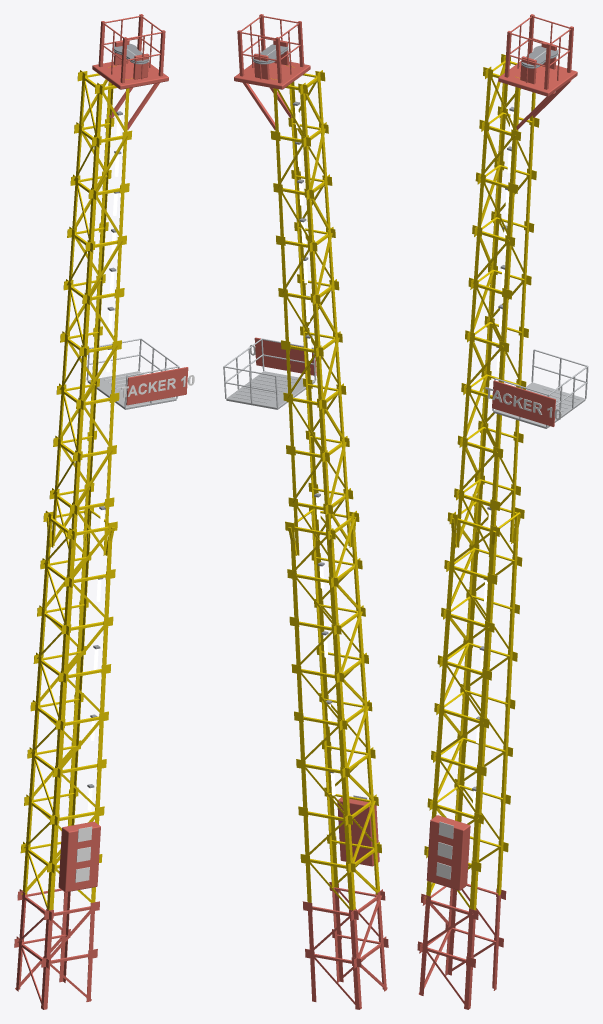
File: sk575_mastil.glb
3 views of the same model, side by side, from view 1: azimuth 30°, elevation 25°; view 2: azimuth 150°, elevation 25°; view 3: azimuth 330°, elevation 25° (orthographic). The views are drawn at different scales.
Parts seen in each view (by area): view 1: sk575_mastil_amarillo, sk575_mastil_rojo, sk575_enganche_rojo, sk575_mastil_luz, sk575_enganche_grating, sk575_enganche_acero, sk575_mastil_blanco, sk575_mastil_acero_oscuro, sk575_enganche_blanco; view 2: sk575_mastil_amarillo, sk575_mastil_rojo, sk575_enganche_grating, sk575_enganche_acero, sk575_enganche_rojo, sk575_mastil_luz, sk575_mastil_acero_oscuro; view 3: sk575_mastil_amarillo, sk575_mastil_rojo, sk575_enganche_rojo, sk575_enganche_acero, sk575_enganche_grating, sk575_mastil_luz, sk575_mastil_blanco, sk575_mastil_acero_oscuro, sk575_enganche_blanco.
Boxes of the visible parts, x1=… form: sk575_mastil_amarillo: x1=20, y1=65, x2=132, y2=910; sk575_mastil_rojo: x1=14, y1=14, x2=168, y2=1009; sk575_enganche_rojo: x1=126, y1=367, x2=188, y2=405; sk575_mastil_luz: x1=87, y1=115, x2=121, y2=810; sk575_enganche_grating: x1=87, y1=371, x2=176, y2=409; sk575_enganche_acero: x1=86, y1=338, x2=179, y2=408; sk575_mastil_blanco: x1=75, y1=826, x2=92, y2=882; sk575_mastil_acero_oscuro: x1=87, y1=43, x2=148, y2=788; sk575_enganche_blanco: x1=121, y1=375, x2=194, y2=397; sk575_mastil_amarillo: x1=270, y1=65, x2=381, y2=910; sk575_mastil_rojo: x1=234, y1=14, x2=388, y2=1009; sk575_enganche_grating: x1=226, y1=371, x2=315, y2=409; sk575_enganche_acero: x1=223, y1=338, x2=316, y2=408; sk575_enganche_rojo: x1=254, y1=337, x2=316, y2=375; sk575_mastil_luz: x1=294, y1=105, x2=335, y2=795; sk575_mastil_acero_oscuro: x1=252, y1=44, x2=334, y2=773; sk575_mastil_amarillo: x1=424, y1=54, x2=541, y2=910; sk575_mastil_rojo: x1=417, y1=14, x2=577, y2=1009; sk575_enganche_rojo: x1=492, y1=380, x2=555, y2=426; sk575_enganche_acero: x1=492, y1=349, x2=588, y2=427; sk575_enganche_grating: x1=493, y1=382, x2=585, y2=428; sk575_mastil_luz: x1=472, y1=111, x2=513, y2=813; sk575_mastil_blanco: x1=436, y1=821, x2=453, y2=879; sk575_mastil_acero_oscuro: x1=472, y1=45, x2=557, y2=791; sk575_enganche_blanco: x1=485, y1=387, x2=561, y2=420.
Size of the model in its own units: 5.36 by 33.38 by 2.59.
